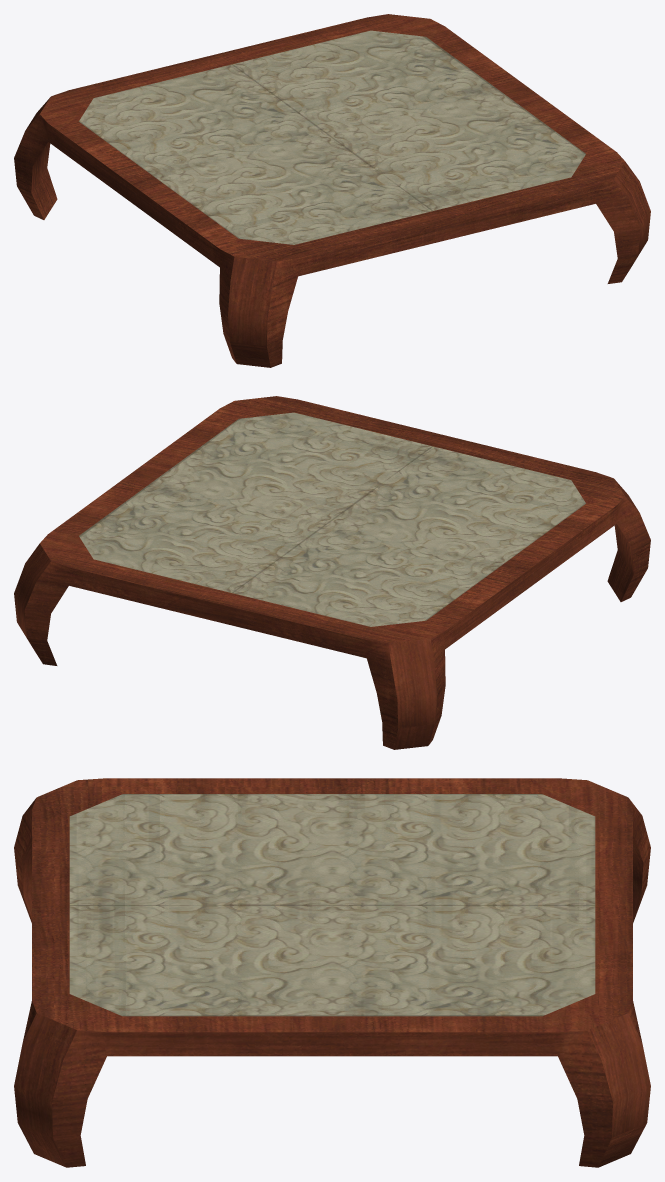
File: Dr_furnit_Smallbasis.obj
3 renders of one model, top to bottom at view 1: azimuth 30°, elevation 25°; view 2: azimuth 150°, elevation 25°; view 3: azimuth 270°, elevation 25°, orthographic. The views are drawn at different scales.
Visible parts, largest first — view 1: Dr_furnit_Smallbasis; view 2: Dr_furnit_Smallbasis; view 3: Dr_furnit_Smallbasis.
Boxes of the visible parts, left/top/right/bottom form: Dr_furnit_Smallbasis: left=14, top=14, right=650, bottom=367; Dr_furnit_Smallbasis: left=14, top=396, right=650, bottom=749; Dr_furnit_Smallbasis: left=14, top=778, right=650, bottom=1167.
Size of the model in its own units: 68.19 by 16.02 by 67.82.
2 materials, 2 textured.
